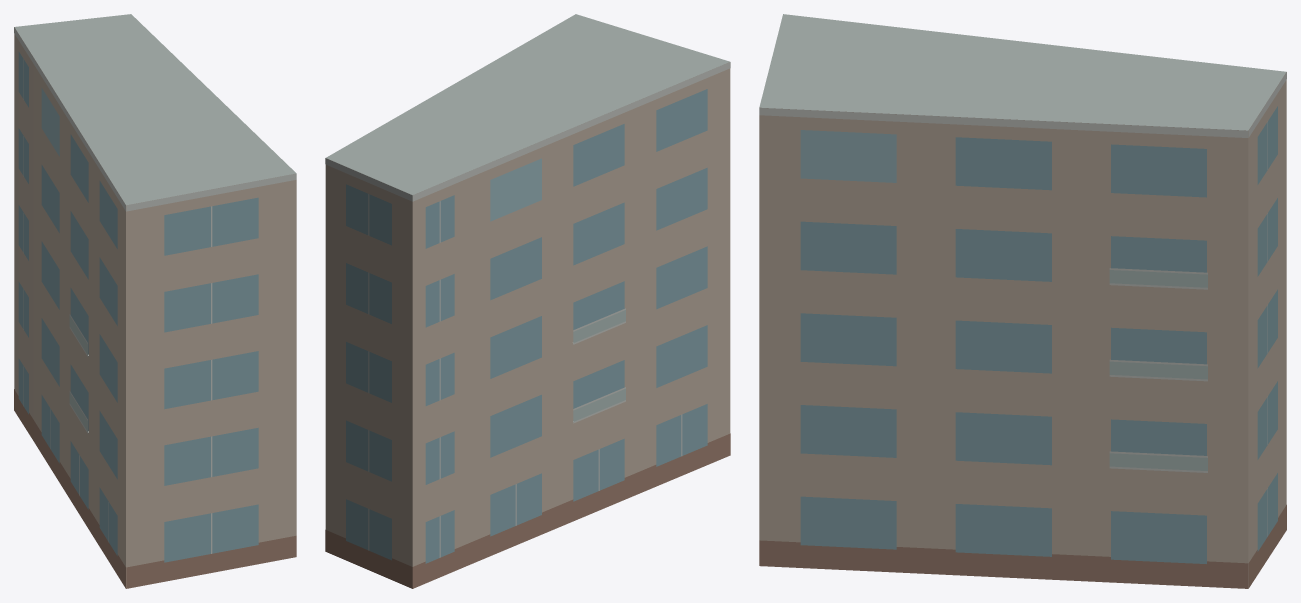
File: survey-upis-32719149.glb
The picture shows the model from 3 angles, left to right: view 1: azimuth 30°, elevation 25°; view 2: azimuth 150°, elevation 25°; view 3: azimuth 270°, elevation 25°; orthographic projection. The views are drawn at different scales.
Parts seen in each view (by area): view 1: survey-upis-32719149.tmp; view 2: survey-upis-32719149.tmp; view 3: survey-upis-32719149.tmp.
Boxes of the visible parts, left/top/right/bottom form: survey-upis-32719149.tmp: left=14, top=14, right=296, bottom=588; survey-upis-32719149.tmp: left=325, top=14, right=730, bottom=588; survey-upis-32719149.tmp: left=759, top=14, right=1286, bottom=588.
Bounding box in the file's own units: 8.08 × 14.8 × 15.45.
